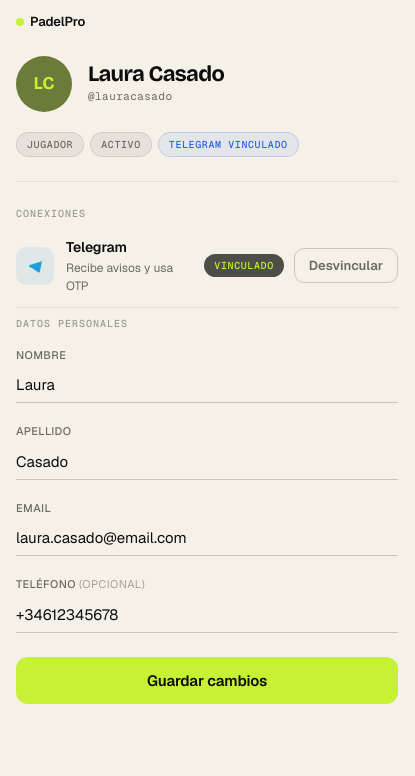
Test case: MiPerfilPage · Conexiones Telegram (auth-otp-telegram 7.1) › MT-3 — error al desvincular muestra alerta
Click the button "Desvincular".
click(346, 266)  # box [294,248,398,283]
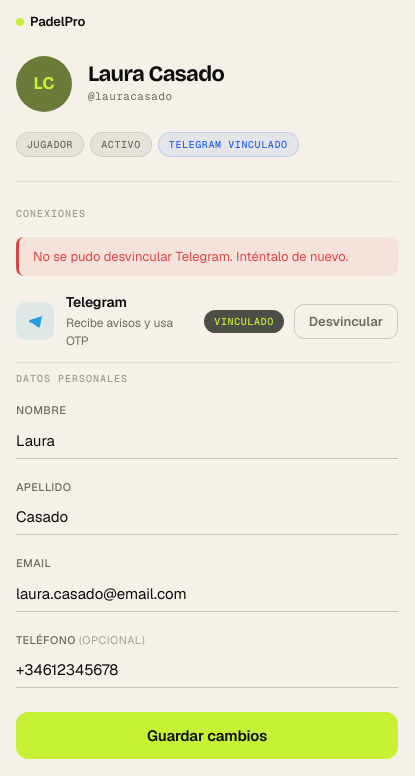
Now the message shows "No se pudo desvincular", box [33,248,348,264]
